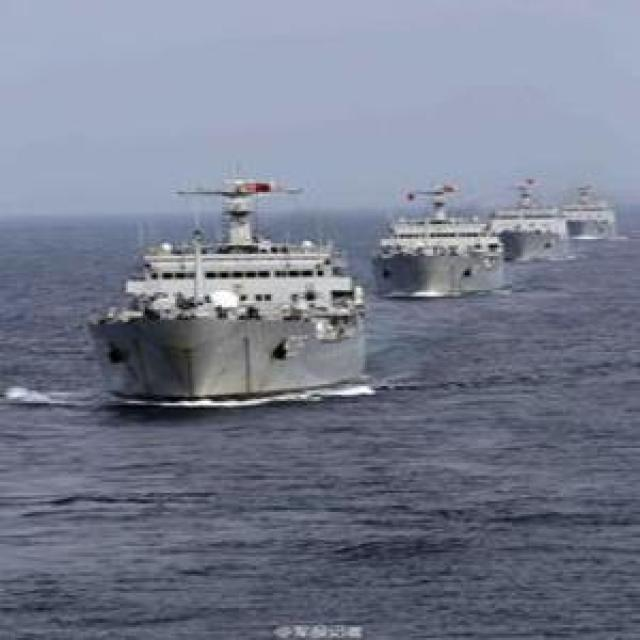navalvessels: (93, 166, 369, 399), (375, 176, 502, 295), (480, 172, 571, 256), (559, 182, 621, 244)
